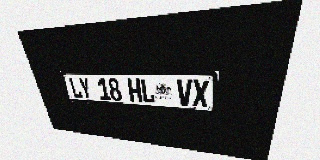1: (96, 78, 111, 100)
8: (107, 78, 122, 101)
H: (127, 78, 142, 103)
L: (140, 79, 155, 104), (68, 77, 83, 98)
V: (177, 79, 192, 106)
X: (193, 79, 209, 107)
Y: (78, 77, 93, 99)
